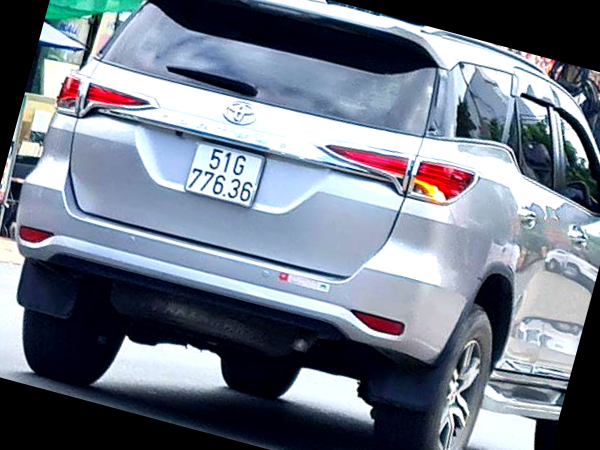lisence: (187, 140, 263, 208)
